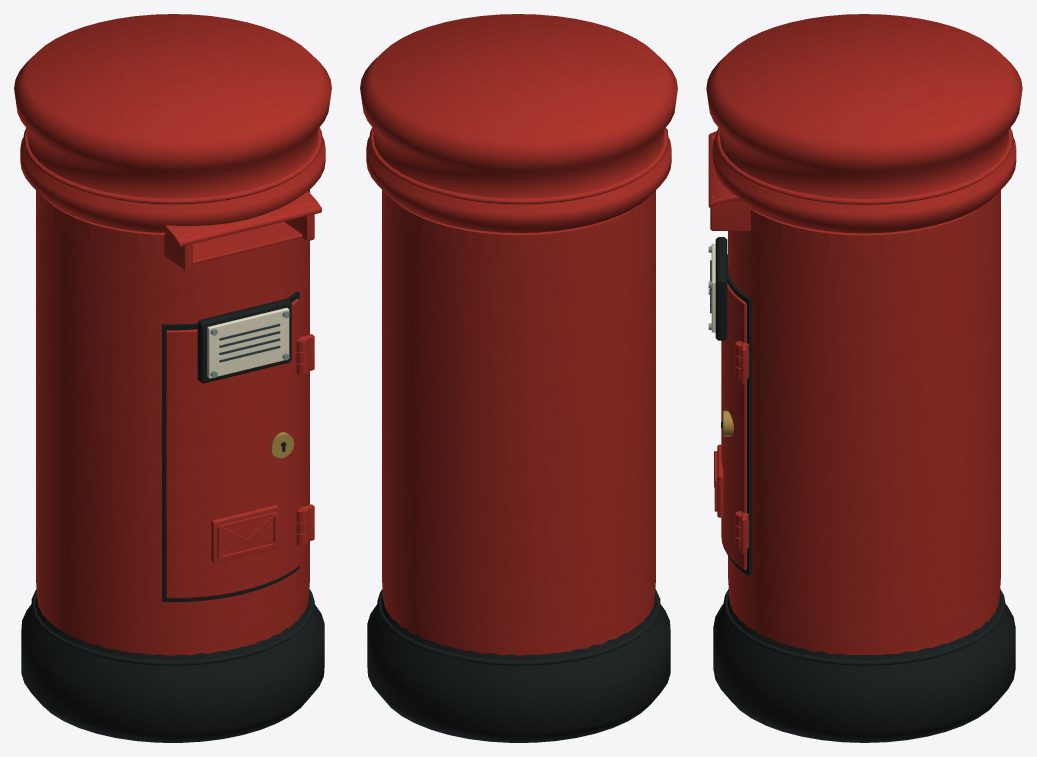
File: postbox.glb
3 views of the same model, side by side, from view 1: azimuth 30°, elevation 25°; view 2: azimuth 150°, elevation 25°; view 3: azimuth 270°, elevation 25° (orthographic).
Parts seen in each view (by area): view 1: PostboxBody; view 2: PostboxBody; view 3: PostboxBody.
Part boxes in pixels (<box>): PostboxBody: <box>14,14,331,742</box>; PostboxBody: <box>360,14,677,742</box>; PostboxBody: <box>706,14,1022,742</box>.
Bounding box in the file's own units: 0.712 × 1.5 × 0.708.
1 material, 1 textured.
